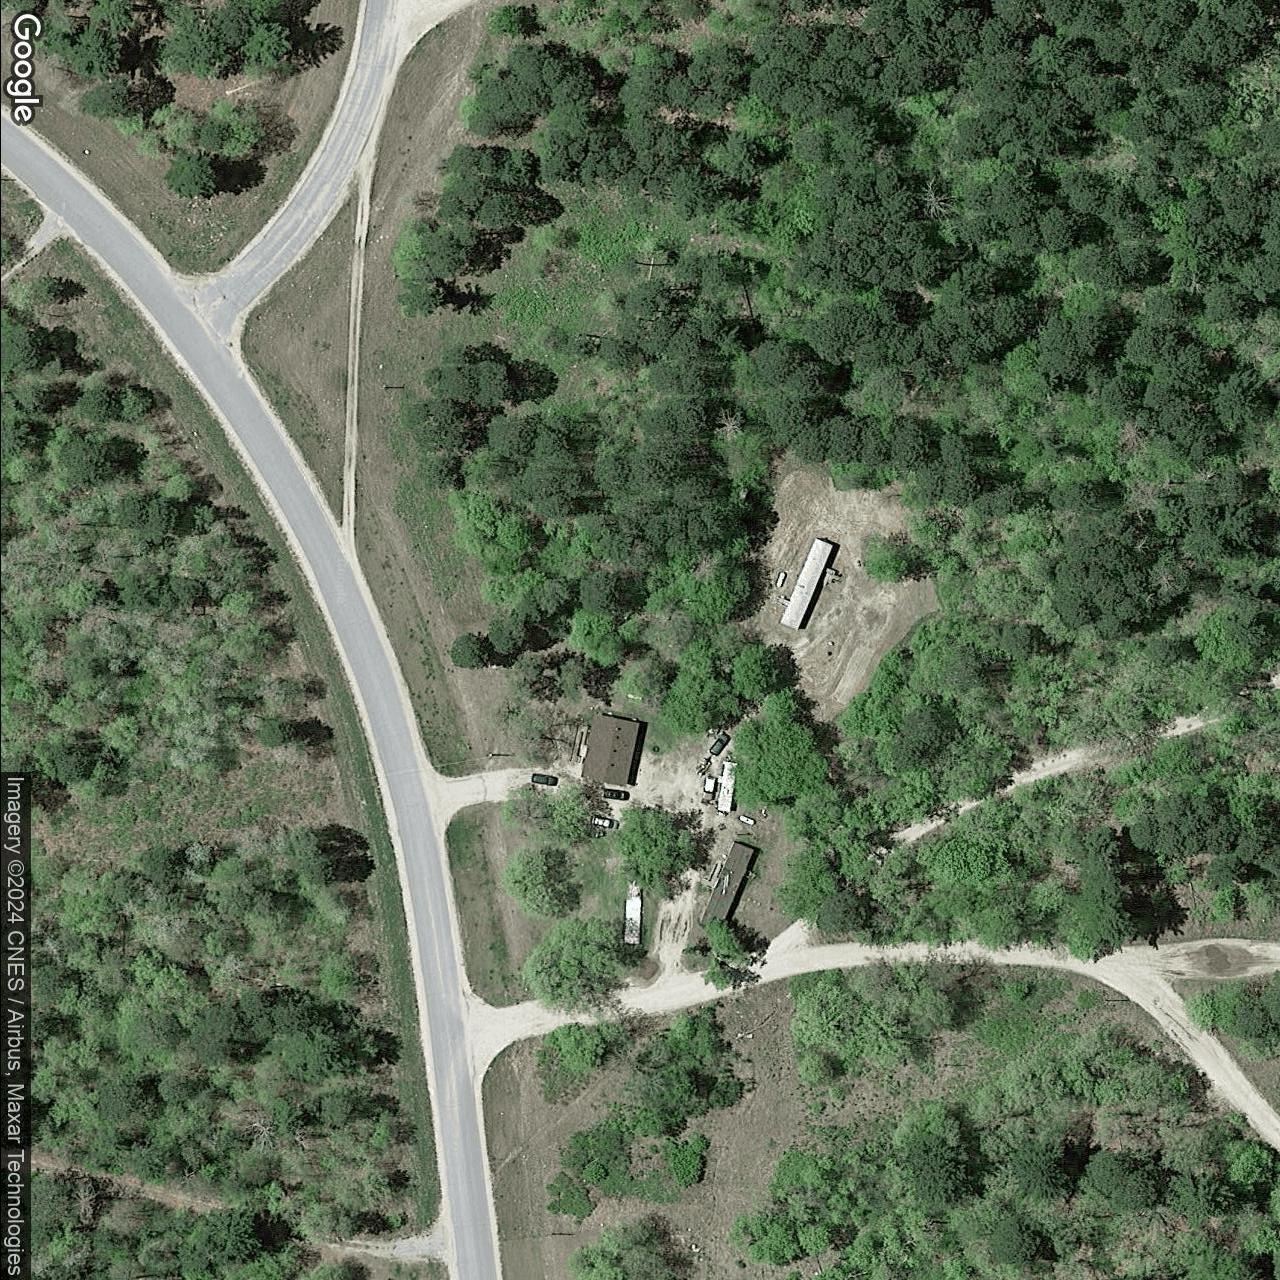House: (579, 712, 639, 787)
Propane: (772, 571, 788, 591), (736, 812, 757, 826), (625, 693, 644, 702)
Trailer: (776, 536, 833, 634), (697, 839, 756, 930), (715, 760, 740, 813), (621, 896, 641, 946)
